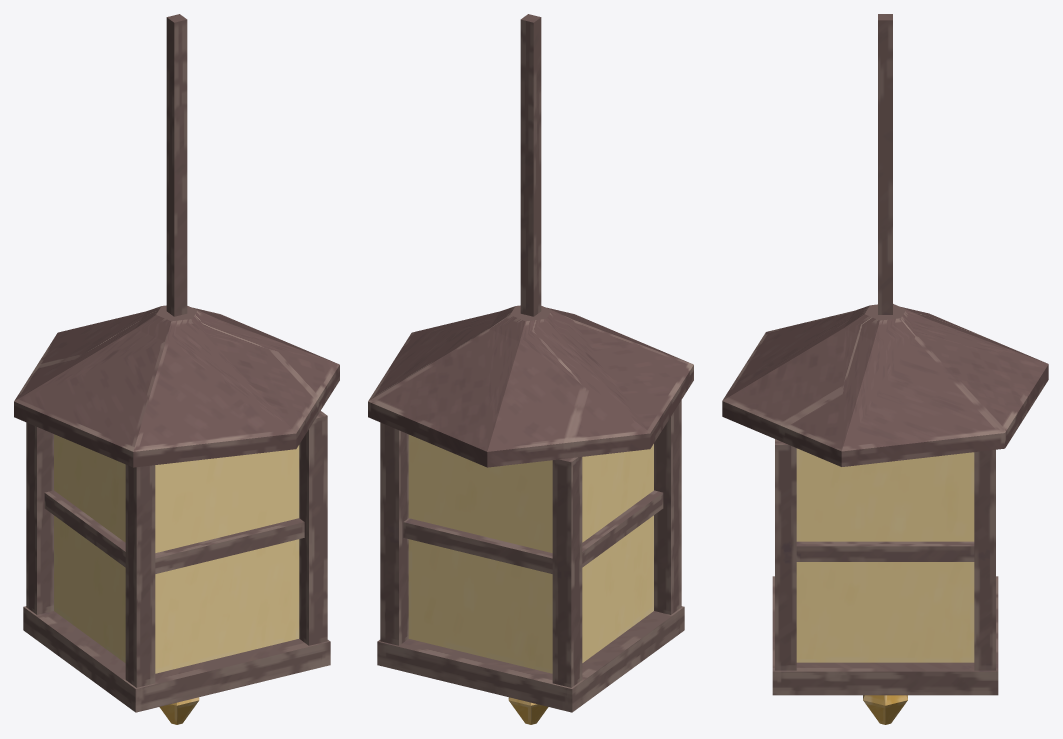
Rendered from lantern_low.fbx.
3 renders of one model, left to right at view 1: azimuth 30°, elevation 25°; view 2: azimuth 150°, elevation 25°; view 3: azimuth 270°, elevation 25°, orthographic.
Visible parts, largest first — view 1: lantern; view 2: lantern; view 3: lantern.
Part boxes in pixels (x1,y1,x2,y2): lantern: (14, 14, 339, 724); lantern: (368, 14, 693, 724); lantern: (722, 14, 1048, 724).
Bounding box in the file's own units: 1.51 × 3.59 × 1.51.
Materials: 1 (1 with a texture image).
